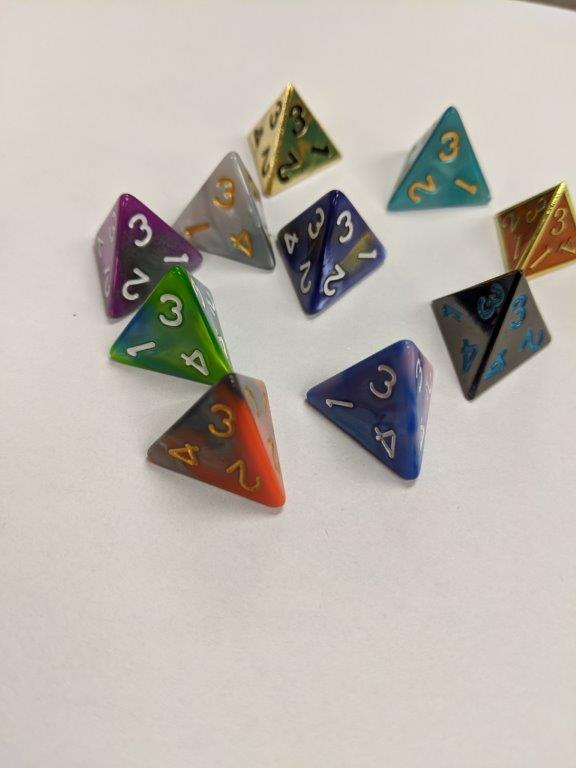d4-3: (133, 366, 285, 516), (303, 336, 432, 485), (74, 187, 203, 319), (431, 263, 553, 402), (96, 260, 232, 383), (277, 188, 388, 322), (163, 146, 278, 274), (240, 80, 345, 197), (385, 103, 494, 206), (499, 181, 576, 279)
